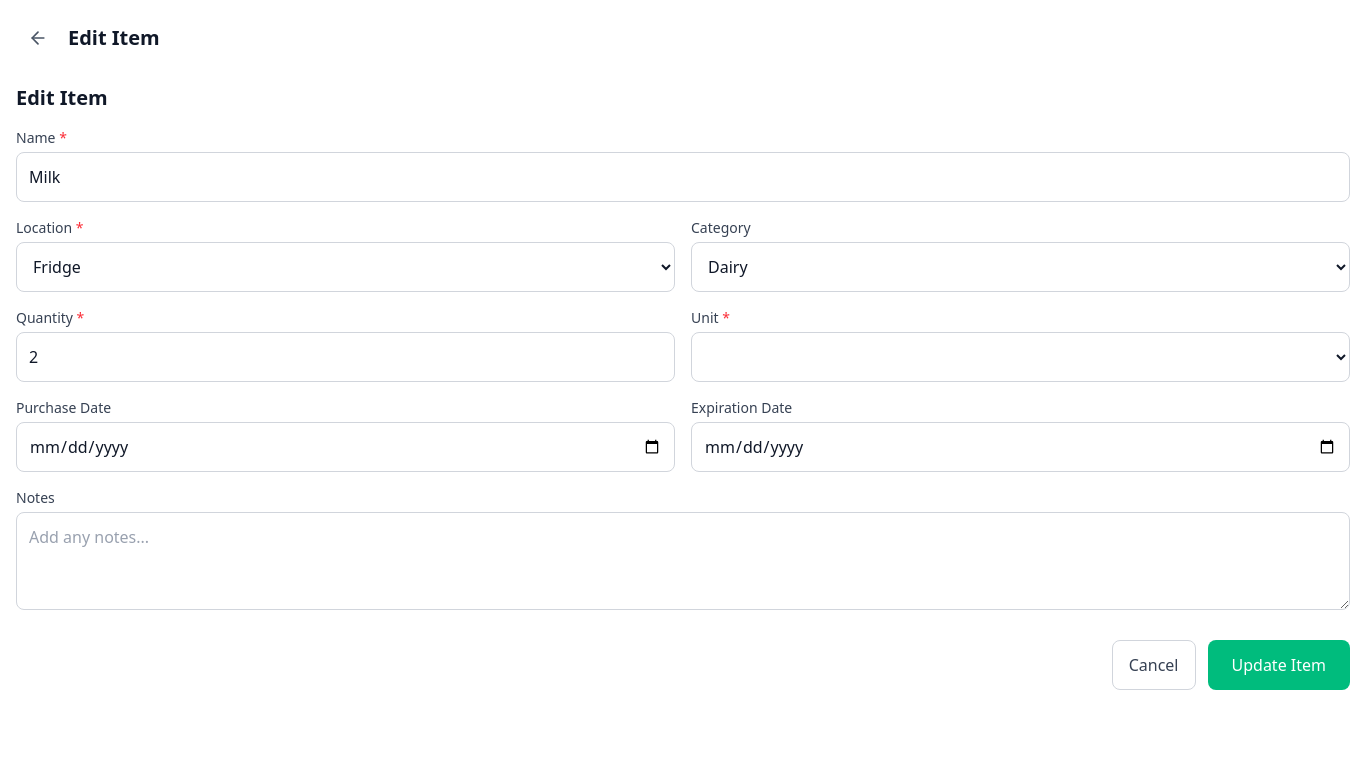
Test: EditItemPage › shows household save copy when updateItem rejects an Appwrite-like error
Click the button "Update Item": {"x": 1279, "y": 665} [1208, 640, 1350, 690]
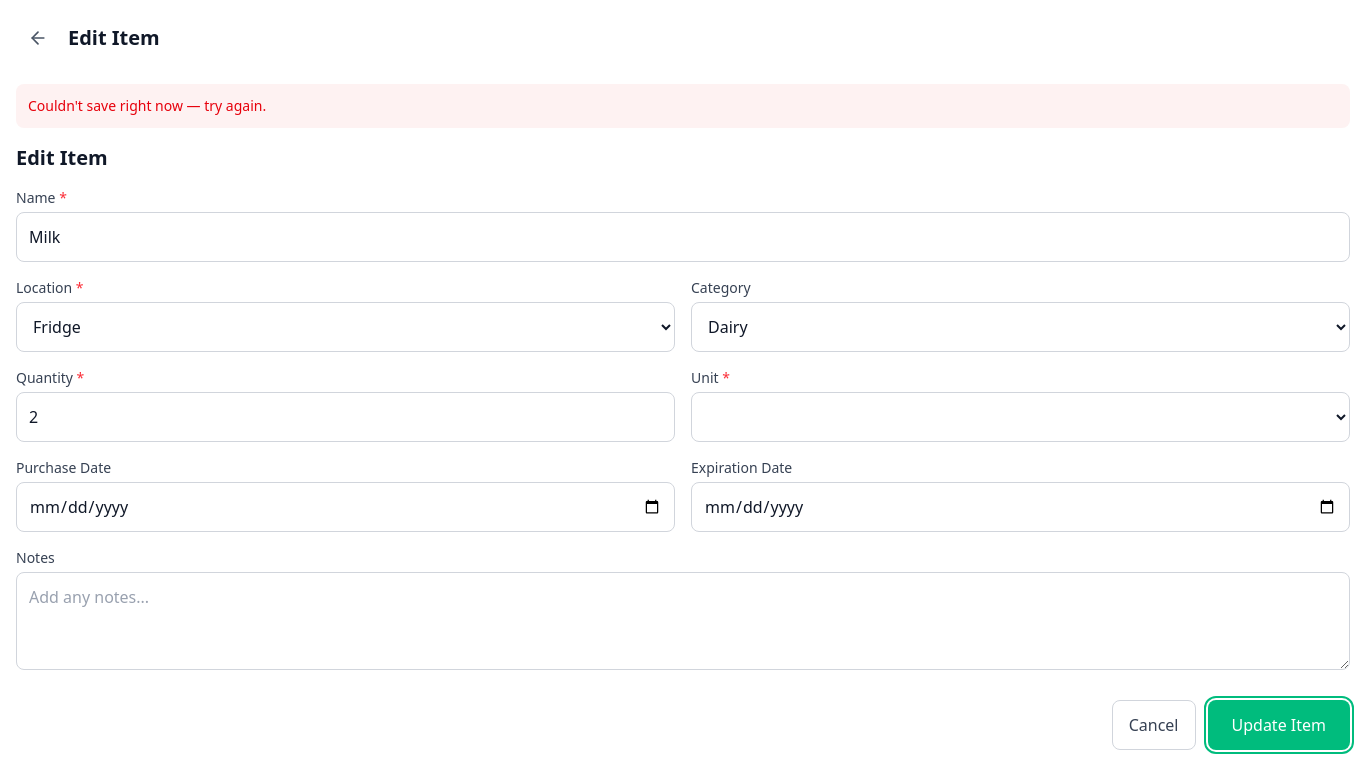
Check: the text "Couldn't save right now — try again." is shown, box [16, 84, 1350, 128]
